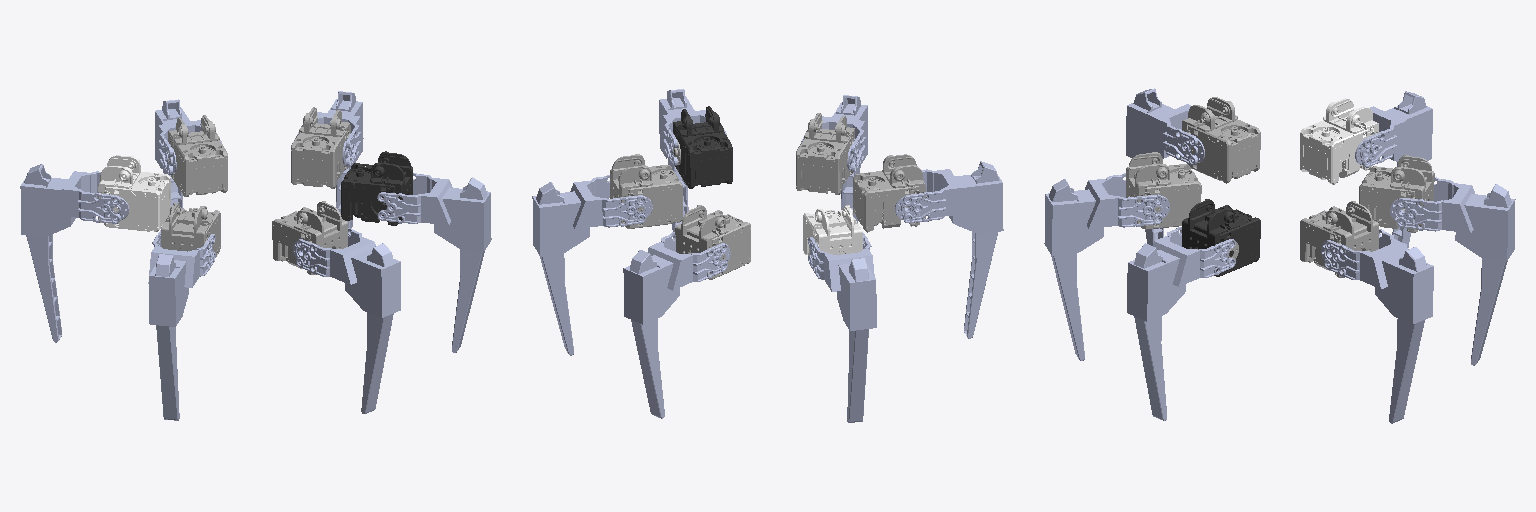
The robot description file, URDF, robot "my_robot":
<?xml version="1.0" encoding="utf-8"?>
<!-- This URDF was automatically created by SolidWorks to URDF Exporter! Originally created by Stephen Brawner (brawner@gmail.com) 
     Commit Version: 1.6.0-1-g15f4949  Build Version: 1.6.7594.29634
     For more information, please see http://wiki.ros.org/sw_urdf_exporter -->
<robot
  name="my_robot">
  <link
    name="base_link">
    <inertial>
      <origin
        xyz="-0.0027827 6.0757E-05 0.0071351"
        rpy="0 0 0" />
      <mass
        value="0.16098" />
      <inertia
        ixx="0.00015107"
        ixy="-2.8194E-11"
        ixz="6.3867E-11"
        iyy="5.948E-05"
        iyz="1.3857E-06"
        izz="0.00015816" />
    </inertial>
    <visual>
      <origin
        xyz="0 0 0"
        rpy="0 0 0" />
      <geometry>
        <mesh
          filename="package://my_robot/meshes/base_link.STL" />
      </geometry>
      <material
        name="">
        <color
          rgba="0.29804 0.29804 0.29804 1" />
      </material>
    </visual>
    <collision>
      <origin
        xyz="0 0 0"
        rpy="0 0 0" />
      <geometry>
        <mesh
          filename="package://my_robot/meshes/base_link.STL" />
      </geometry>
    </collision>
  </link>
  <link
    name="hip_1_link">
    <inertial>
      <origin
        xyz="0.014011 0.00043956 -0.019212"
        rpy="0 0 0" />
      <mass
        value="0.059796" />
      <inertia
        ixx="1.2056E-05"
        ixy="-8.1863E-10"
        ixz="4.1746E-07"
        iyy="1.5747E-05"
        iyz="3.4409E-07"
        izz="1.5486E-05" />
    </inertial>
    <visual>
      <origin
        xyz="0 0 0"
        rpy="0 0 0" />
      <geometry>
        <mesh
          filename="package://my_robot/meshes/hip_1_link.STL" />
      </geometry>
      <material
        name="">
        <color
          rgba="0.29804 0.29804 0.29804 1" />
      </material>
    </visual>
    <collision>
      <origin
        xyz="0 0 0"
        rpy="0 0 0" />
      <geometry>
        <mesh
          filename="package://my_robot/meshes/hip_1_link.STL" />
      </geometry>
    </collision>
  </link>
  <joint
    name="hip_1_joint"
    type="revolute">
    <origin
      xyz="0.0777 -0.034784 0.022207"
      rpy="-0.0098734 -0.0098729 -0.78535" />
    <parent
      link="base_link" />
    <child
      link="hip_1_link" />
    <axis
      xyz="0 0 -1" />
    <limit
      lower="-1.5708"
      upper="1.5708"
      effort="10"
      velocity="1" />
  </joint>
  <link
    name="knee_1_link">
    <inertial>
      <origin
        xyz="-5.8002E-05 -8.4414E-05 0.019662"
        rpy="0 0 0" />
      <mass
        value="0.0019497" />
      <inertia
        ixx="5.3939E-08"
        ixy="3.432E-10"
        ixz="-3.7652E-11"
        iyy="5.4049E-08"
        iyz="-4.2542E-11"
        izz="1.0291E-07" />
    </inertial>
    <visual>
      <origin
        xyz="0 0 0"
        rpy="0 0 0" />
      <geometry>
        <mesh
          filename="package://my_robot/meshes/knee_1_link.STL" />
      </geometry>
      <material
        name="">
        <color
          rgba="0.75294 0.75294 0.75294 1" />
      </material>
    </visual>
    <collision>
      <origin
        xyz="0 0 0"
        rpy="0 0 0" />
      <geometry>
        <mesh
          filename="package://my_robot/meshes/knee_1_link.STL" />
      </geometry>
    </collision>
  </link>
  <joint
    name="knee_1_joint"
    type="revolute">
    <origin
      xyz="0.024 0.0209 -0.0209"
      rpy="1.5708 0 0" />
    <parent
      link="hip_1_link" />
    <child
      link="knee_1_link" />
    <axis
      xyz="0 0 1" />
    <limit
      lower="-1.5708"
      upper="1.5708"
      effort="10"
      velocity="1" />
  </joint>
  <link
    name="ankle_1_link">
    <inertial>
      <origin
        xyz="0.055157 -0.014545 -0.0003642"
        rpy="0 0 0" />
      <mass
        value="0.058138" />
      <inertia
        ixx="3.3991E-05"
        ixy="7.5722E-07"
        ixz="-5.6672E-09"
        iyy="1.2196E-05"
        iyz="6.7393E-08"
        izz="3.7328E-05" />
    </inertial>
    <visual>
      <origin
        xyz="0 0 0"
        rpy="0 0 0" />
      <geometry>
        <mesh
          filename="package://my_robot/meshes/ankle_1_link.STL" />
      </geometry>
      <material
        name="">
        <color
          rgba="0.79216 0.81961 0.93333 1" />
      </material>
    </visual>
    <collision>
      <origin
        xyz="0 0 0"
        rpy="0 0 0" />
      <geometry>
        <mesh
          filename="package://my_robot/meshes/ankle_1_link.STL" />
      </geometry>
    </collision>
  </link>
  <joint
    name="ankle_1_joint"
    type="fixed">
    <origin
      xyz="0 0 0.0209"
      rpy="0 0 0" />
    <parent
      link="knee_1_link" />
    <child
      link="ankle_1_link" />
    <axis
      xyz="0 0 0" />
  </joint>
  <link
    name="hip_2_link">
    <inertial>
      <origin
        xyz="0.014011 0.00043956 -0.019212"
        rpy="0 0 0" />
      <mass
        value="0.059796" />
      <inertia
        ixx="1.2056E-05"
        ixy="-8.1856E-10"
        ixz="4.1746E-07"
        iyy="1.5747E-05"
        iyz="3.4409E-07"
        izz="1.5486E-05" />
    </inertial>
    <visual>
      <origin
        xyz="0 0 0"
        rpy="0 0 0" />
      <geometry>
        <mesh
          filename="package://my_robot/meshes/hip_2_link.STL" />
      </geometry>
      <material
        name="">
        <color
          rgba="0.75294 0.75294 0.75294 1" />
      </material>
    </visual>
    <collision>
      <origin
        xyz="0 0 0"
        rpy="0 0 0" />
      <geometry>
        <mesh
          filename="package://my_robot/meshes/hip_2_link.STL" />
      </geometry>
    </collision>
  </link>
  <joint
    name="hip_2_joint"
    type="revolute">
    <origin
      xyz="-0.0032327 -0.075288 0.018972"
      rpy="-0.003614 -0.013487 -1.309" />
    <parent
      link="base_link" />
    <child
      link="hip_2_link" />
    <axis
      xyz="0 0 -1" />
    <limit
      lower="-1.5708"
      upper="1.5708"
      effort="10"
      velocity="1" />
  </joint>
  <link
    name="knee_2_link">
    <inertial>
      <origin
        xyz="-5.9449E-05 -8.652E-05 0.019192"
        rpy="0 0 0" />
      <mass
        value="0.0019022" />
      <inertia
        ixx="5.3871E-08"
        ixy="3.432E-10"
        ixz="-3.7652E-11"
        iyy="5.3981E-08"
        iyz="-4.2542E-11"
        izz="1.0285E-07" />
    </inertial>
    <visual>
      <origin
        xyz="0 0 0"
        rpy="0 0 0" />
      <geometry>
        <mesh
          filename="package://my_robot/meshes/knee_2_link.STL" />
      </geometry>
      <material
        name="">
        <color
          rgba="0.79216 0.81961 0.93333 1" />
      </material>
    </visual>
    <collision>
      <origin
        xyz="0 0 0"
        rpy="0 0 0" />
      <geometry>
        <mesh
          filename="package://my_robot/meshes/knee_2_link.STL" />
      </geometry>
    </collision>
  </link>
  <joint
    name="knee_2_joint"
    type="revolute">
    <origin
      xyz="0.024 0.0209 -0.0209"
      rpy="1.5708 0 0" />
    <parent
      link="hip_2_link" />
    <child
      link="knee_2_link" />
    <axis
      xyz="0 0 0" />
    <limit
      lower="0"
      upper="0"
      effort="0"
      velocity="0" />
  </joint>
  <link
    name="ankle_2_link">
    <inertial>
      <origin
        xyz="0.055157 -0.014545 -0.0003642"
        rpy="0 0 0" />
      <mass
        value="0.058138" />
      <inertia
        ixx="3.3991E-05"
        ixy="7.5722E-07"
        ixz="-5.6657E-09"
        iyy="1.2196E-05"
        iyz="6.7393E-08"
        izz="3.7328E-05" />
    </inertial>
    <visual>
      <origin
        xyz="0 0 0"
        rpy="0 0 0" />
      <geometry>
        <mesh
          filename="package://my_robot/meshes/ankle_2_link.STL" />
      </geometry>
      <material
        name="">
        <color
          rgba="0.79216 0.81961 0.93333 1" />
      </material>
    </visual>
    <collision>
      <origin
        xyz="0 0 0"
        rpy="0 0 0" />
      <geometry>
        <mesh
          filename="package://my_robot/meshes/ankle_2_link.STL" />
      </geometry>
    </collision>
  </link>
  <joint
    name="ankle_2_joint"
    type="fixed">
    <origin
      xyz="0 0 0.0209"
      rpy="0 0 0" />
    <parent
      link="knee_2_link" />
    <child
      link="ankle_2_link" />
    <axis
      xyz="0 0 0" />
  </joint>
  <link
    name="hip_3_link">
    <inertial>
      <origin
        xyz="0.014011 0.00043956 -0.019212"
        rpy="0 0 0" />
      <mass
        value="0.059796" />
      <inertia
        ixx="1.2056E-05"
        ixy="-8.1863E-10"
        ixz="4.1746E-07"
        iyy="1.5747E-05"
        iyz="3.4409E-07"
        izz="1.5486E-05" />
    </inertial>
    <visual>
      <origin
        xyz="0 0 0"
        rpy="0 0 0" />
      <geometry>
        <mesh
          filename="package://my_robot/meshes/hip_3_link.STL" />
      </geometry>
      <material
        name="">
        <color
          rgba="0.75294 0.75294 0.75294 1" />
      </material>
    </visual>
    <collision>
      <origin
        xyz="0 0 0"
        rpy="0 0 0" />
      <geometry>
        <mesh
          filename="package://my_robot/meshes/hip_3_link.STL" />
      </geometry>
    </collision>
  </link>
  <joint
    name="hip_3_joint"
    type="revolute">
    <origin
      xyz="-0.0737 -0.034784 0.022207"
      rpy="0.0098734 -0.0098729 -2.3562" />
    <parent
      link="base_link" />
    <child
      link="hip_3_link" />
    <axis
      xyz="0 0 -1" />
    <limit
      lower="-1.5708"
      upper="1.5708"
      effort="10"
      velocity="1" />
  </joint>
  <link
    name="knee_3_link">
    <inertial>
      <origin
        xyz="-5.9449E-05 -8.652E-05 0.019192"
        rpy="0 0 0" />
      <mass
        value="0.0019022" />
      <inertia
        ixx="5.3871E-08"
        ixy="3.432E-10"
        ixz="-3.7652E-11"
        iyy="5.3981E-08"
        iyz="-4.2542E-11"
        izz="1.0285E-07" />
    </inertial>
    <visual>
      <origin
        xyz="0 0 0"
        rpy="0 0 0" />
      <geometry>
        <mesh
          filename="package://my_robot/meshes/knee_3_link.STL" />
      </geometry>
      <material
        name="">
        <color
          rgba="0.79216 0.81961 0.93333 1" />
      </material>
    </visual>
    <collision>
      <origin
        xyz="0 0 0"
        rpy="0 0 0" />
      <geometry>
        <mesh
          filename="package://my_robot/meshes/knee_3_link.STL" />
      </geometry>
    </collision>
  </link>
  <joint
    name="knee_3_joint"
    type="revolute">
    <origin
      xyz="0.024 0.0209 -0.0209"
      rpy="1.5708 0 0" />
    <parent
      link="hip_3_link" />
    <child
      link="knee_3_link" />
    <axis
      xyz="0 0 1" />
    <limit
      lower="-1.5708"
      upper="1.5708"
      effort="10"
      velocity="1" />
  </joint>
  <link
    name="ankle_3_link">
    <inertial>
      <origin
        xyz="0.055157 -0.014545 -0.0003642"
        rpy="0 0 0" />
      <mass
        value="0.058138" />
      <inertia
        ixx="3.3991E-05"
        ixy="7.5722E-07"
        ixz="-5.6672E-09"
        iyy="1.2196E-05"
        iyz="6.7393E-08"
        izz="3.7328E-05" />
    </inertial>
    <visual>
      <origin
        xyz="0 0 0"
        rpy="0 0 0" />
      <geometry>
        <mesh
          filename="package://my_robot/meshes/ankle_3_link.STL" />
      </geometry>
      <material
        name="">
        <color
          rgba="0.79216 0.81961 0.93333 1" />
      </material>
    </visual>
    <collision>
      <origin
        xyz="0 0 0"
        rpy="0 0 0" />
      <geometry>
        <mesh
          filename="package://my_robot/meshes/ankle_3_link.STL" />
      </geometry>
    </collision>
  </link>
  <joint
    name="ankle_3_joint"
    type="fixed">
    <origin
      xyz="0 0 0.0209"
      rpy="0 0 0" />
    <parent
      link="knee_3_link" />
    <child
      link="ankle_3_link" />
    <axis
      xyz="0 0 0" />
  </joint>
  <link
    name="hip_4_link">
    <inertial>
      <origin
        xyz="0.014011 0.00043956 -0.019212"
        rpy="0 0 0" />
      <mass
        value="0.059796" />
      <inertia
        ixx="1.2056E-05"
        ixy="-8.1863E-10"
        ixz="4.1746E-07"
        iyy="1.5747E-05"
        iyz="3.4409E-07"
        izz="1.5486E-05" />
    </inertial>
    <visual>
      <origin
        xyz="0 0 0"
        rpy="0 0 0" />
      <geometry>
        <mesh
          filename="package://my_robot/meshes/hip_4_link.STL" />
      </geometry>
      <material
        name="">
        <color
          rgba="0.75294 0.75294 0.75294 1" />
      </material>
    </visual>
    <collision>
      <origin
        xyz="0 0 0"
        rpy="0 0 0" />
      <geometry>
        <mesh
          filename="package://my_robot/meshes/hip_4_link.STL" />
      </geometry>
    </collision>
  </link>
  <joint
    name="hip_4_joint"
    type="revolute">
    <origin
      xyz="0.0777 0.03521 0.021229"
      rpy="-0.0098734 0.0098729 0.78535" />
    <parent
      link="base_link" />
    <child
      link="hip_4_link" />
    <axis
      xyz="0 0 0" />
    <limit
      lower="-1.5708"
      upper="1.5708"
      effort="10"
      velocity="1" />
  </joint>
  <link
    name="knee_4_link">
    <inertial>
      <origin
        xyz="-5.9449E-05 -8.652E-05 0.019192"
        rpy="0 0 0" />
      <mass
        value="0.0019022" />
      <inertia
        ixx="5.3871E-08"
        ixy="3.432E-10"
        ixz="-3.7652E-11"
        iyy="5.3981E-08"
        iyz="-4.2542E-11"
        izz="1.0285E-07" />
    </inertial>
    <visual>
      <origin
        xyz="0 0 0"
        rpy="0 0 0" />
      <geometry>
        <mesh
          filename="package://my_robot/meshes/knee_4_link.STL" />
      </geometry>
      <material
        name="">
        <color
          rgba="0.79216 0.81961 0.93333 1" />
      </material>
    </visual>
    <collision>
      <origin
        xyz="0 0 0"
        rpy="0 0 0" />
      <geometry>
        <mesh
          filename="package://my_robot/meshes/knee_4_link.STL" />
      </geometry>
    </collision>
  </link>
  <joint
    name="knee_4_joint"
    type="revolute">
    <origin
      xyz="0.024 0.0209 -0.0209"
      rpy="1.5708 0 0" />
    <parent
      link="hip_4_link" />
    <child
      link="knee_4_link" />
    <axis
      xyz="0 0 1" />
    <limit
      lower="-1.5708"
      upper="1.5708"
      effort="10"
      velocity="1" />
  </joint>
  <link
    name="ankle_4_link">
    <inertial>
      <origin
        xyz="0.0551573941355666 -0.0145449150364123 -0.000364197703512814"
        rpy="0 0 0" />
      <mass
        value="0.0581378722016232" />
      <inertia
        ixx="3.39906325618032E-05"
        ixy="7.57218287302681E-07"
        ixz="-5.66717028033141E-09"
        iyy="1.21962502787114E-05"
        iyz="6.73927171074531E-08"
        izz="3.73281606436596E-05" />
    </inertial>
    <visual>
      <origin
        xyz="0 0 0"
        rpy="0 0 0" />
      <geometry>
        <mesh
          filename="package://my_robot/meshes/ankle_4_link.STL" />
      </geometry>
      <material
        name="">
        <color
          rgba="0.792156862745098 0.819607843137255 0.933333333333333 1" />
      </material>
    </visual>
    <collision>
      <origin
        xyz="0 0 0"
        rpy="0 0 0" />
      <geometry>
        <mesh
          filename="package://my_robot/meshes/ankle_4_link.STL" />
      </geometry>
    </collision>
  </link>
  <joint
    name="ankle_4_joint"
    type="fixed">
    <origin
      xyz="0 0 0.0209"
      rpy="0 0 0" />
    <parent
      link="knee_4_link" />
    <child
      link="ankle_4_link" />
    <axis
      xyz="0 0 0" />
  </joint>
  <link
    name="hip_5_link">
    <inertial>
      <origin
        xyz="0.014011 0.00043956 -0.019212"
        rpy="0 0 0" />
      <mass
        value="0.059796" />
      <inertia
        ixx="1.2056E-05"
        ixy="-8.187E-10"
        ixz="4.1746E-07"
        iyy="1.5747E-05"
        iyz="3.4409E-07"
        izz="1.5486E-05" />
    </inertial>
    <visual>
      <origin
        xyz="0 0 0"
        rpy="0 0 0" />
      <geometry>
        <mesh
          filename="package://my_robot/meshes/hip_5_link.STL" />
      </geometry>
      <material
        name="">
        <color
          rgba="0.75294 0.75294 0.75294 1" />
      </material>
    </visual>
    <collision>
      <origin
        xyz="0 0 0"
        rpy="0 0 0" />
      <geometry>
        <mesh
          filename="package://my_robot/meshes/hip_5_link.STL" />
      </geometry>
    </collision>
  </link>
  <joint
    name="hip_4_joint"
    type="revolute">
    <origin
      xyz="-0.0032327 0.075608 0.016865"
      rpy="-0.003614 0.013487 1.309" />
    <parent
      link="base_link" />
    <child
      link="hip_5_link" />
    <axis
      xyz="0 0 -1" />
    <limit
      lower="-1.5708"
      upper="1.5708"
      effort="10"
      velocity="1" />
  </joint>
  <link
    name="knee_5_link">
    <inertial>
      <origin
        xyz="-5.9449E-05 -8.652E-05 0.019192"
        rpy="0 0 0" />
      <mass
        value="0.0019022" />
      <inertia
        ixx="5.3871E-08"
        ixy="3.432E-10"
        ixz="-3.7652E-11"
        iyy="5.3981E-08"
        iyz="-4.2542E-11"
        izz="1.0285E-07" />
    </inertial>
    <visual>
      <origin
        xyz="0 0 0"
        rpy="0 0 0" />
      <geometry>
        <mesh
          filename="package://my_robot/meshes/knee_5_link.STL" />
      </geometry>
      <material
        name="">
        <color
          rgba="0.79216 0.81961 0.93333 1" />
      </material>
    </visual>
    <collision>
      <origin
        xyz="0 0 0"
        rpy="0 0 0" />
      <geometry>
        <mesh
          filename="package://my_robot/meshes/knee_5_link.STL" />
      </geometry>
    </collision>
  </link>
  <joint
    name="knee_5_joint"
    type="fixed">
    <origin
      xyz="0.024 0.0209 -0.0209"
      rpy="1.5708 0 0" />
    <parent
      link="hip_5_link" />
    <child
      link="knee_5_link" />
    <axis
      xyz="0 0 0" />
  </joint>
  <link
    name="ankle_5_link">
    <inertial>
      <origin
        xyz="0.055157 -0.014545 -0.0003642"
        rpy="0 0 0" />
      <mass
        value="0.058138" />
      <inertia
        ixx="3.3991E-05"
        ixy="7.5722E-07"
        ixz="-5.6686E-09"
        iyy="1.2196E-05"
        iyz="6.7393E-08"
        izz="3.7328E-05" />
    </inertial>
    <visual>
      <origin
        xyz="0 0 0"
        rpy="0 0 0" />
      <geometry>
        <mesh
          filename="package://my_robot/meshes/ankle_5_link.STL" />
      </geometry>
      <material
        name="">
        <color
          rgba="0.79216 0.81961 0.93333 1" />
      </material>
    </visual>
    <collision>
      <origin
        xyz="0 0 0"
        rpy="0 0 0" />
      <geometry>
        <mesh
          filename="package://my_robot/meshes/ankle_5_link.STL" />
      </geometry>
    </collision>
  </link>
  <joint
    name="ankle_5_joint"
    type="fixed">
    <origin
      xyz="0 0 0.020899999963091"
      rpy="0 0 0" />
    <parent
      link="knee_5_link" />
    <child
      link="ankle_5_link" />
    <axis
      xyz="0 0 0" />
  </joint>
  <link
    name="hip_6_link">
    <inertial>
      <origin
        xyz="0 0 0"
        rpy="0 0 0" />
      <mass
        value="0" />
      <inertia
        ixx="0"
        ixy="0"
        ixz="0"
        iyy="0"
        iyz="0"
        izz="0" />
    </inertial>
    <visual>
      <origin
        xyz="0 0 0"
        rpy="0 0 0" />
      <geometry>
        <mesh
          filename="package://my_robot/meshes/hip_6_link.STL" />
      </geometry>
      <material
        name="">
        <color
          rgba="1 1 1 1" />
      </material>
    </visual>
    <collision>
      <origin
        xyz="0 0 0"
        rpy="0 0 0" />
      <geometry>
        <mesh
          filename="package://my_robot/meshes/hip_6_link.STL" />
      </geometry>
    </collision>
  </link>
  <joint
    name="hip_6_joint"
    type="revolute">
    <origin
      xyz="-0.0737 0.03521 0.021229"
      rpy="0.0098734 0.0098729 2.3562" />
    <parent
      link="base_link" />
    <child
      link="hip_6_link" />
    <axis
      xyz="0 0 -1" />
    <limit
      lower="-1.5708"
      upper="1.5708"
      effort="10"
      velocity="1" />
  </joint>
  <link
    name="knee_6_link">
    <inertial>
      <origin
        xyz="-5.9449E-05 -8.652E-05 0.019192"
        rpy="0 0 0" />
      <mass
        value="0.0019022" />
      <inertia
        ixx="5.3871E-08"
        ixy="3.432E-10"
        ixz="-3.7652E-11"
        iyy="5.3981E-08"
        iyz="-4.2542E-11"
        izz="1.0285E-07" />
    </inertial>
    <visual>
      <origin
        xyz="0 0 0"
        rpy="0 0 0" />
      <geometry>
        <mesh
          filename="package://my_robot/meshes/knee_6_link.STL" />
      </geometry>
      <material
        name="">
        <color
          rgba="0.79216 0.81961 0.93333 1" />
      </material>
    </visual>
    <collision>
      <origin
        xyz="0 0 0"
        rpy="0 0 0" />
      <geometry>
        <mesh
          filename="package://my_robot/meshes/knee_6_link.STL" />
      </geometry>
    </collision>
  </link>
  <joint
    name="knee_6_joint"
    type="revolute">
    <origin
      xyz="0.024 0.0209 -0.0209"
      rpy="1.5708 0 0" />
    <parent
      link="hip_6_link" />
    <child
      link="knee_6_link" />
    <axis
      xyz="0 0 1" />
    <limit
      lower="-1.5708"
      upper="1.5708"
      effort="10"
      velocity="1" />
  </joint>
  <link
    name="ankle_6_link">
    <inertial>
      <origin
        xyz="0.055157 -0.014545 -0.0003642"
        rpy="0 0 0" />
      <mass
        value="0.058138" />
      <inertia
        ixx="3.3991E-05"
        ixy="7.5722E-07"
        ixz="-5.6672E-09"
        iyy="1.2196E-05"
        iyz="6.7393E-08"
        izz="3.7328E-05" />
    </inertial>
    <visual>
      <origin
        xyz="0 0 0"
        rpy="0 0 0" />
      <geometry>
        <mesh
          filename="package://my_robot/meshes/ankle_6_link.STL" />
      </geometry>
      <material
        name="">
        <color
          rgba="0.79216 0.81961 0.93333 1" />
      </material>
    </visual>
    <collision>
      <origin
        xyz="0 0 0"
        rpy="0 0 0" />
      <geometry>
        <mesh
          filename="package://my_robot/meshes/ankle_6_link.STL" />
      </geometry>
    </collision>
  </link>
  <joint
    name="ankle_6_joint"
    type="fixed">
    <origin
      xyz="0 0 0.0208999999630915"
      rpy="0 0 0" />
    <parent
      link="knee_6_link" />
    <child
      link="ankle_6_link" />
    <axis
      xyz="0 0 0" />
  </joint>
</robot>

--- Render facts (derived) ---
3 views of the same robot in one strip: view 1: azimuth 30°, elevation 25°; view 2: azimuth 150°, elevation 25°; view 3: azimuth 270°, elevation 25° (orthographic).
Robot: my_robot — 19 links, 18 joints (11 revolute, 7 fixed); root link base_link; default pose: every joint at zero.
Visible links, largest first — view 1: ankle_1_link, ankle_2_link, ankle_6_link, ankle_3_link, hip_6_link, hip_5_link, hip_4_link, hip_1_link, hip_2_link, hip_3_link, ankle_5_link, ankle_4_link; view 2: ankle_4_link, ankle_5_link, ankle_3_link, ankle_6_link, hip_3_link, hip_1_link, hip_2_link, hip_4_link, hip_5_link, hip_6_link, ankle_2_link, ankle_1_link; view 3: ankle_2_link, ankle_5_link, ankle_4_link, ankle_1_link, hip_3_link, hip_6_link, ankle_3_link, ankle_6_link, hip_2_link, hip_1_link, hip_5_link, hip_4_link.
Boxes of the visible links, box(x1,y1,x2,y2) form: ankle_1_link: box(377, 173, 491, 352); ankle_2_link: box(296, 228, 400, 413); ankle_6_link: box(20, 164, 120, 342); ankle_3_link: box(148, 230, 215, 420); hip_6_link: box(98, 155, 170, 231); hip_5_link: box(168, 115, 227, 196); hip_4_link: box(291, 107, 350, 188); hip_1_link: box(341, 151, 412, 225); hip_2_link: box(272, 201, 347, 274); hip_3_link: box(161, 203, 220, 256); ankle_5_link: box(155, 99, 222, 208); ankle_4_link: box(296, 91, 363, 233); ankle_4_link: box(532, 175, 645, 355); ankle_5_link: box(623, 232, 727, 418); ankle_3_link: box(903, 161, 1003, 338); ankle_6_link: box(808, 233, 876, 422); hip_3_link: box(853, 154, 925, 232); hip_1_link: box(673, 106, 732, 188); hip_2_link: box(796, 113, 854, 194); hip_4_link: box(610, 154, 682, 228); hip_5_link: box(675, 205, 750, 279); hip_6_link: box(803, 205, 862, 255); ankle_2_link: box(801, 95, 867, 222); ankle_1_link: box(659, 89, 726, 237); ankle_2_link: box(1044, 173, 1163, 360); ankle_5_link: box(1397, 177, 1515, 365); ankle_4_link: box(1324, 229, 1433, 423); ankle_1_link: box(1127, 227, 1235, 420); hip_3_link: box(1182, 97, 1260, 183); hip_6_link: box(1300, 98, 1378, 184); ankle_3_link: box(1126, 88, 1197, 245); ankle_6_link: box(1362, 91, 1432, 247); hip_2_link: box(1126, 152, 1201, 229); hip_1_link: box(1182, 199, 1260, 276); hip_5_link: box(1359, 155, 1434, 232); hip_4_link: box(1300, 201, 1378, 277).
Bounding box of the posed robot: 0.3163 × 0.3602 × 0.1686 m (x, y, z).
Meshes: 19 distinct files referenced, 18 mesh visuals loaded (18 binary STL); not drawn: 1 (reference not matched to a file when rendering).
